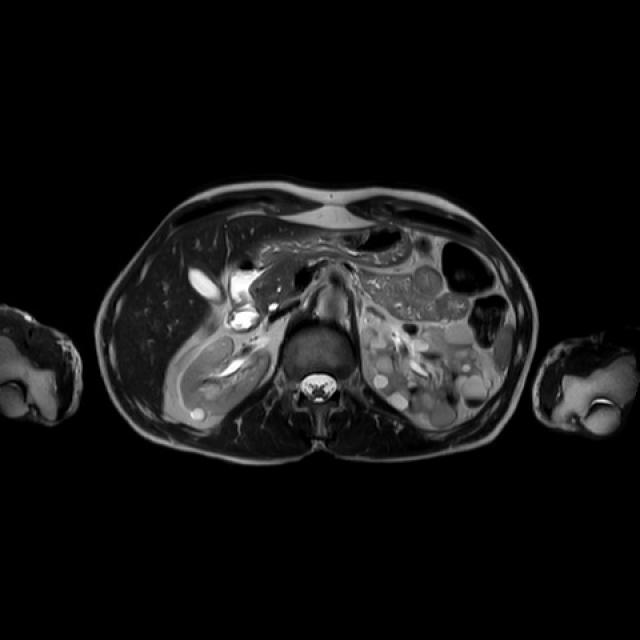sag: (179, 335, 270, 422)
sol: (359, 324, 490, 425)
